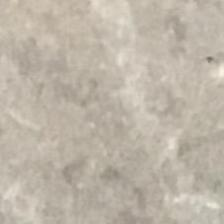Non_Crack: (29, 30, 194, 203)
